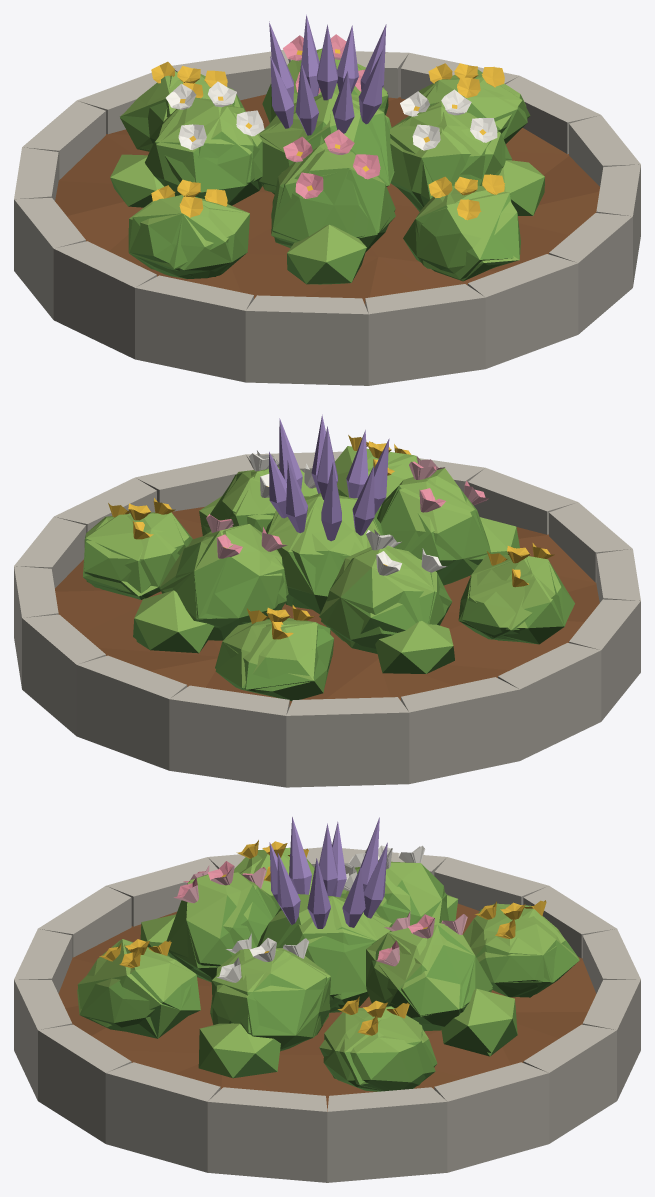
The model's file is FMS_Garden_Bed_Round_Planted.fbx.
The picture shows the model from 3 angles, top to bottom: view 1: azimuth 30°, elevation 25°; view 2: azimuth 150°, elevation 25°; view 3: azimuth 270°, elevation 25°; orthographic projection.
Parts seen in each view (by area): view 1: FMS_Garden_Bed_Round_Planted_Foliage, FMS_Garden_Bed_Round_Planted_Border_Q2, FMS_Garden_Bed_Round_Planted_Soil, FMS_Garden_Bed_Round_Planted_Border_Q3, FMS_Garden_Bed_Round_Planted_Flowers, FMS_Garden_Bed_Round_Planted_Foliage_Low1, FMS_Garden_Bed_Round_Planted_Border_Q1, FMS_Garden_Bed_Round_Planted_Border_Q0, FMS_Garden_Bed_Round_Planted_Flowers_Low1; view 2: FMS_Garden_Bed_Round_Planted_Foliage, FMS_Garden_Bed_Round_Planted_Border_Q1, FMS_Garden_Bed_Round_Planted_Soil, FMS_Garden_Bed_Round_Planted_Foliage_Low1, FMS_Garden_Bed_Round_Planted_Border_Q0, FMS_Garden_Bed_Round_Planted_Flowers, FMS_Garden_Bed_Round_Planted_Border_Q2, FMS_Garden_Bed_Round_Planted_Border_Q3, FMS_Garden_Bed_Round_Planted_Flowers_Low1; view 3: FMS_Garden_Bed_Round_Planted_Foliage, FMS_Garden_Bed_Round_Planted_Border_Q0, FMS_Garden_Bed_Round_Planted_Border_Q3, FMS_Garden_Bed_Round_Planted_Foliage_Low1, FMS_Garden_Bed_Round_Planted_Soil, FMS_Garden_Bed_Round_Planted_Flowers, FMS_Garden_Bed_Round_Planted_Border_Q2, FMS_Garden_Bed_Round_Planted_Border_Q1, FMS_Garden_Bed_Round_Planted_Flowers_Low1.
Part boxes in pixels (x1,y1,x2,y2): FMS_Garden_Bed_Round_Planted_Foliage: (110, 49, 544, 284); FMS_Garden_Bed_Round_Planted_Border_Q2: (53, 241, 485, 385); FMS_Garden_Bed_Round_Planted_Soil: (55, 94, 599, 305); FMS_Garden_Bed_Round_Planted_Border_Q3: (467, 115, 640, 368); FMS_Garden_Bed_Round_Planted_Flowers: (151, 14, 504, 220); FMS_Garden_Bed_Round_Planted_Foliage_Low1: (120, 48, 530, 279); FMS_Garden_Bed_Round_Planted_Border_Q1: (14, 71, 175, 319); FMS_Garden_Bed_Round_Planted_Border_Q0: (172, 50, 600, 154); FMS_Garden_Bed_Round_Planted_Flowers_Low1: (152, 41, 504, 219); FMS_Garden_Bed_Round_Planted_Foliage: (84, 447, 574, 700); FMS_Garden_Bed_Round_Planted_Border_Q1: (169, 643, 601, 787); FMS_Garden_Bed_Round_Planted_Soil: (55, 507, 599, 706); FMS_Garden_Bed_Round_Planted_Foliage_Low1: (83, 446, 566, 692); FMS_Garden_Bed_Round_Planted_Border_Q0: (14, 517, 187, 770); FMS_Garden_Bed_Round_Planted_Flowers: (108, 414, 554, 639); FMS_Garden_Bed_Round_Planted_Border_Q2: (468, 467, 640, 721); FMS_Garden_Bed_Round_Planted_Border_Q3: (54, 451, 484, 532); FMS_Garden_Bed_Round_Planted_Flowers_Low1: (110, 438, 548, 639); FMS_Garden_Bed_Round_Planted_Foliage: (77, 848, 579, 1091); FMS_Garden_Bed_Round_Planted_Border_Q0: (327, 979, 640, 1182); FMS_Garden_Bed_Round_Planted_Border_Q3: (14, 979, 327, 1182); FMS_Garden_Bed_Round_Planted_Foliage_Low1: (77, 847, 579, 1090); FMS_Garden_Bed_Round_Planted_Soil: (58, 903, 596, 1111); FMS_Garden_Bed_Round_Planted_Flowers: (99, 817, 546, 1035); FMS_Garden_Bed_Round_Planted_Border_Q2: (14, 847, 322, 993); FMS_Garden_Bed_Round_Planted_Border_Q1: (342, 848, 640, 993); FMS_Garden_Bed_Round_Planted_Flowers_Low1: (104, 843, 534, 1032).
Bounding box in the file's own units: 2 × 0.8 × 2.
1 material, 1 textured.
